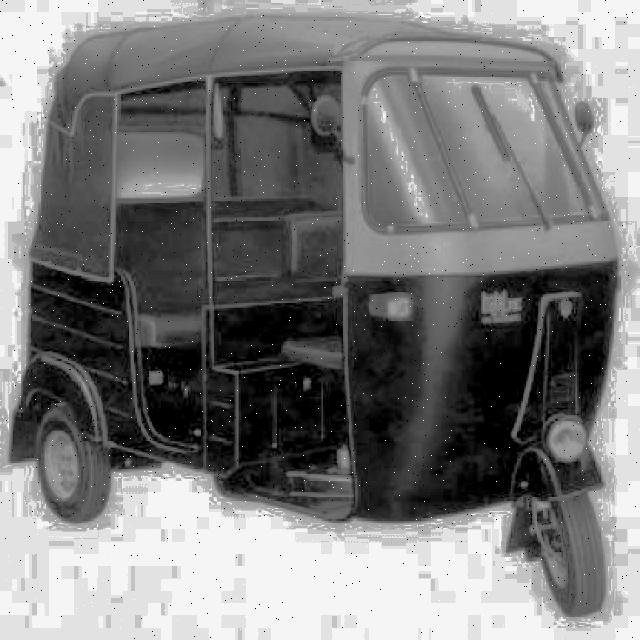Auto-Rickshaw: (6, 9, 628, 619)
